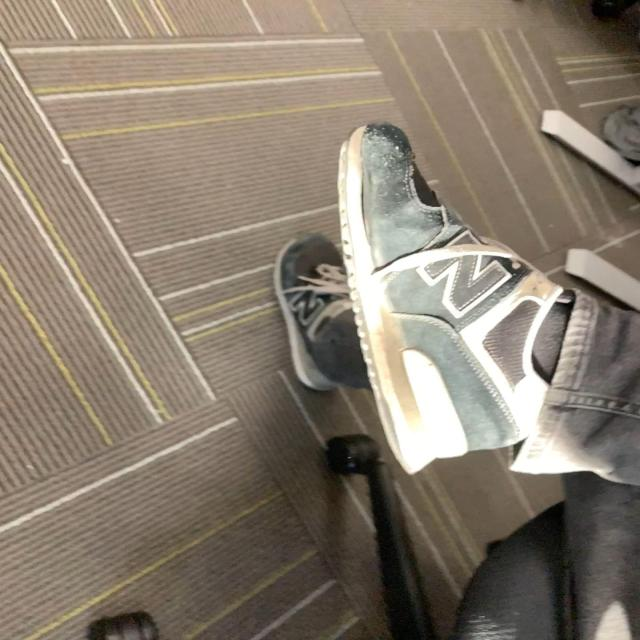shoe: (336, 124, 575, 477)
